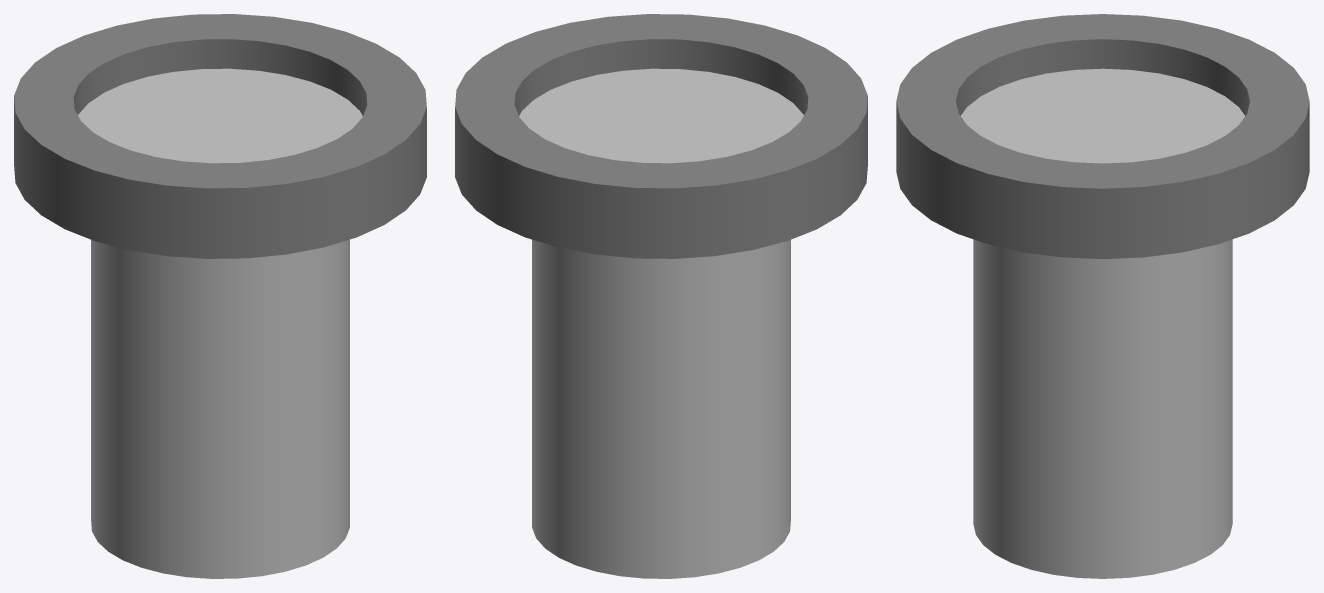
Rendered from BOLT.fbx.
3 renders of one model, left to right at view 1: azimuth 30°, elevation 25°; view 2: azimuth 150°, elevation 25°; view 3: azimuth 270°, elevation 25°, orthographic.
Visible parts, largest first — view 1: anim; view 2: anim; view 3: anim.
Boxes of the visible parts, x1,y1,x2,y2 form: anim: [14, 14, 426, 578]; anim: [455, 14, 867, 578]; anim: [896, 14, 1309, 578].
Size of the model in its own units: 159 by 180 by 159.
1 material, 1 textured.
